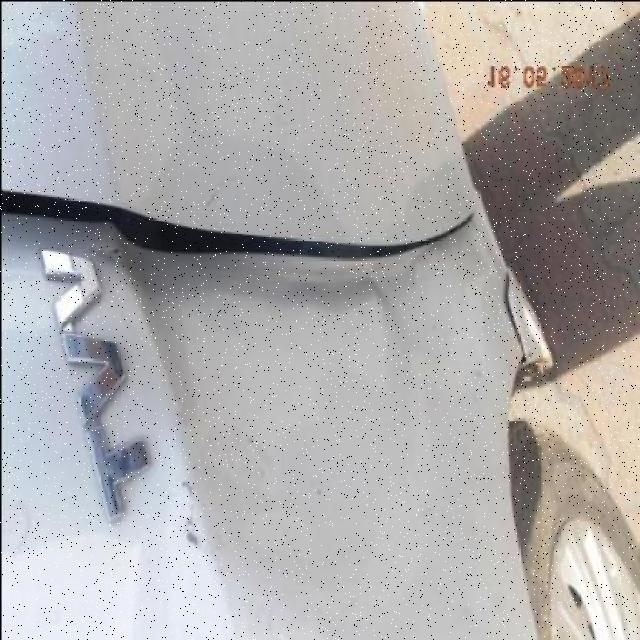damage: (0, 170, 501, 319)
